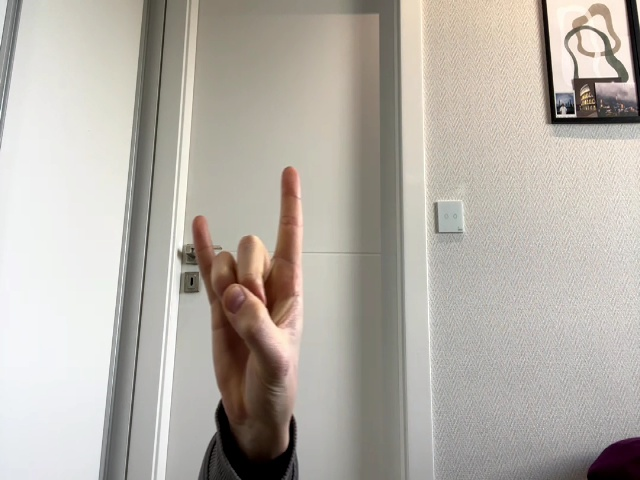Y: (193, 166, 303, 439)
